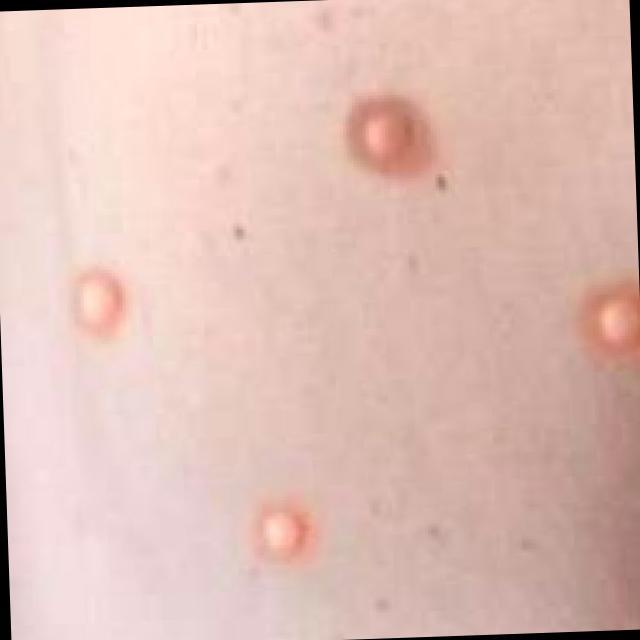Eczema: (344, 86, 442, 184), (65, 249, 134, 345), (248, 491, 322, 567), (582, 292, 640, 358)
